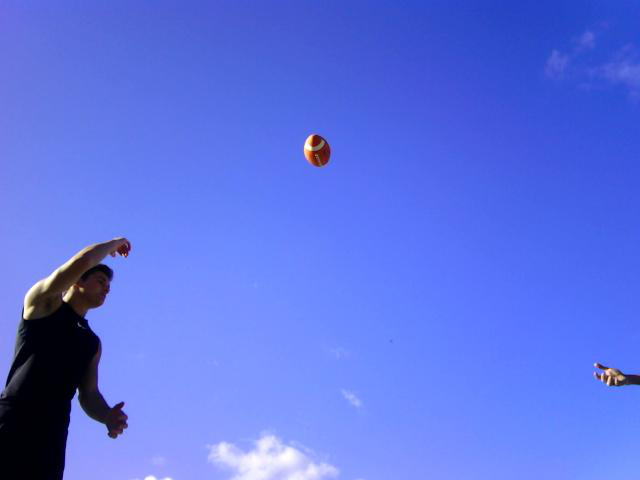football: (300, 131, 335, 172)
